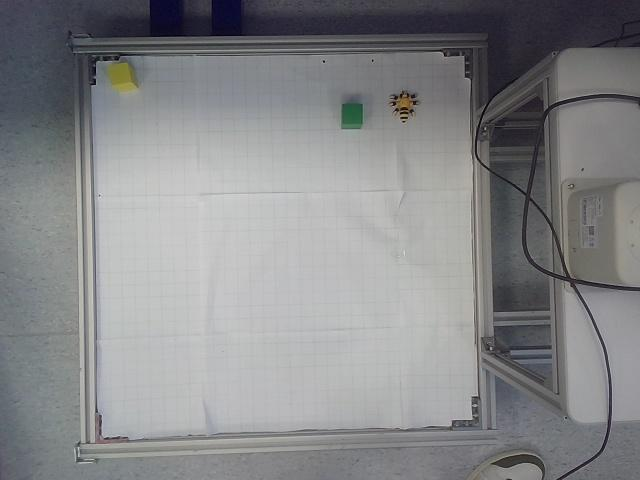frelon: (388, 91, 420, 124)
